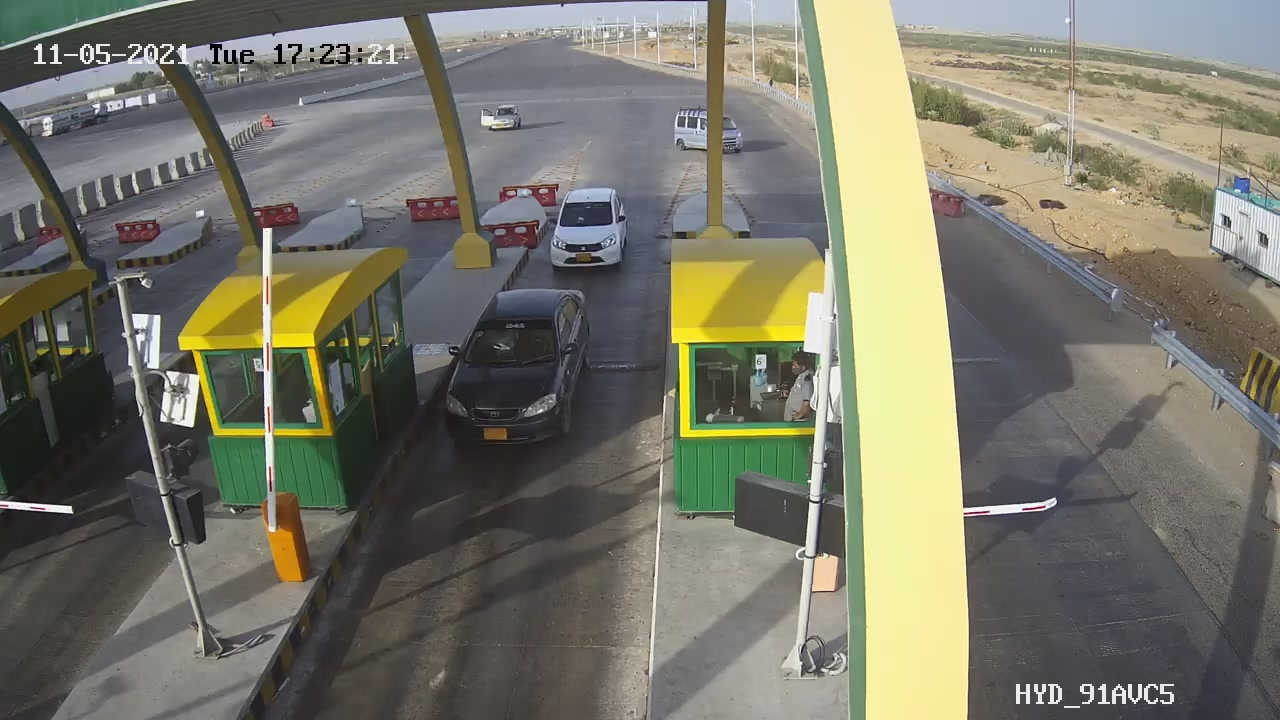F1: (426, 274, 609, 473), (529, 175, 646, 281)
